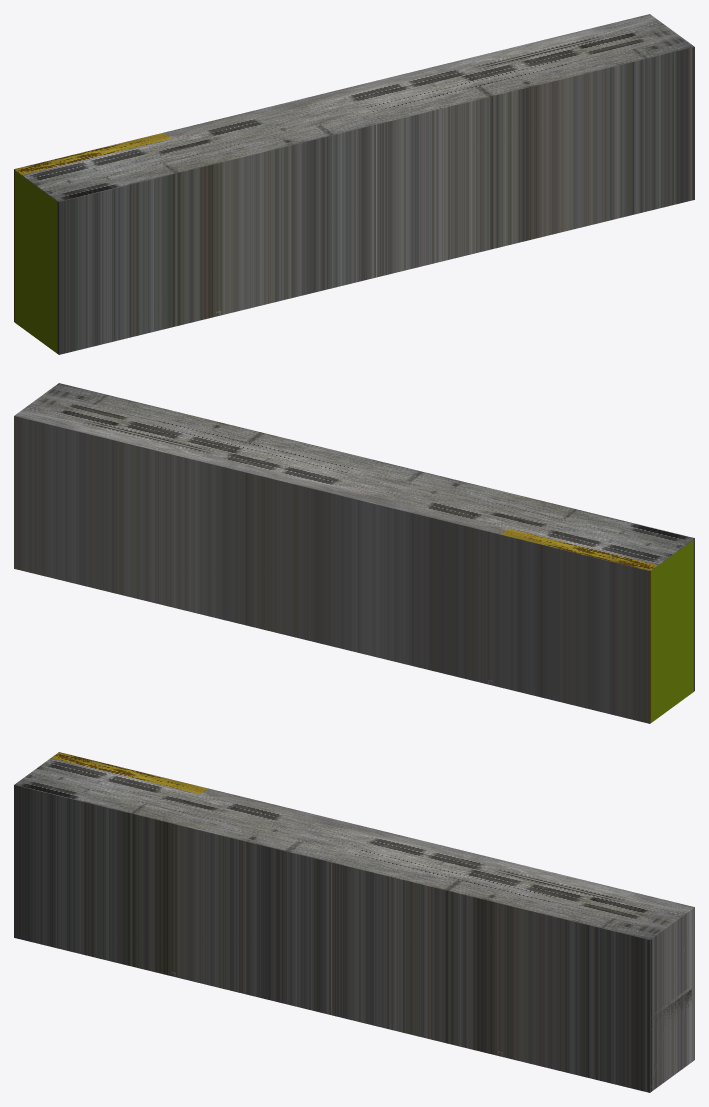
File: hvac_duct_straight.DAE
3 views of the same model, one above another, from view 1: azimuth 30°, elevation 25°; view 2: azimuth 150°, elevation 25°; view 3: azimuth 330°, elevation 25° (orthographic).
Visible parts, largest first — view 1: colbox-01, bounds; view 2: colbox-01, bounds; view 3: colbox-01.
Part boxes in pixels (x1,y1,x2,y2): colbox-01: (14,14,694,354); bounds: (15,171,57,353); colbox-01: (14,383,694,723); bounds: (651,540,693,722); colbox-01: (14,752,694,1092).
Bounding box in the file's own units: 700 × 85.85 × 161.
